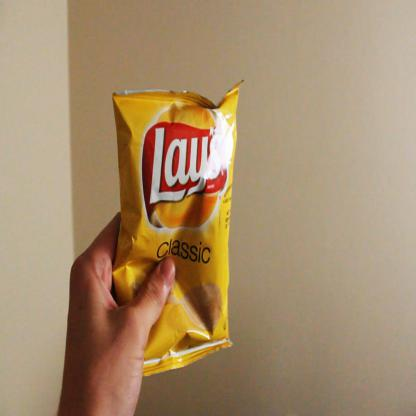potatochip: (107, 79, 248, 383)
